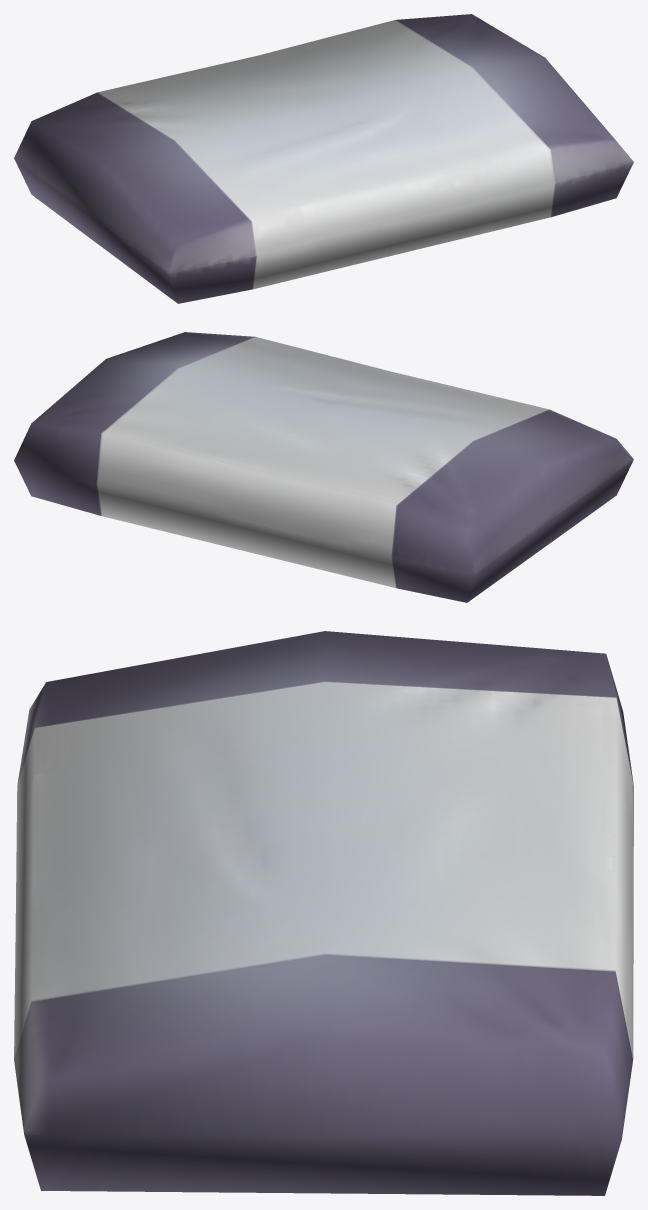
The model's file is jov_futon3a.fbx.
3 views of the same model, one above another, from view 1: azimuth 30°, elevation 25°; view 2: azimuth 150°, elevation 25°; view 3: azimuth 270°, elevation 25° (orthographic). The views are drawn at different scales.
Visible parts, largest first — view 1: jov_futon3a; view 2: jov_futon3a; view 3: jov_futon3a.
Part boxes in pixels (x1,y1,x2,y2): jov_futon3a: [14, 14, 633, 303]; jov_futon3a: [14, 332, 633, 602]; jov_futon3a: [14, 631, 633, 1195].
Bounding box in the file's own units: 69.23 × 13.07 × 42.19.
